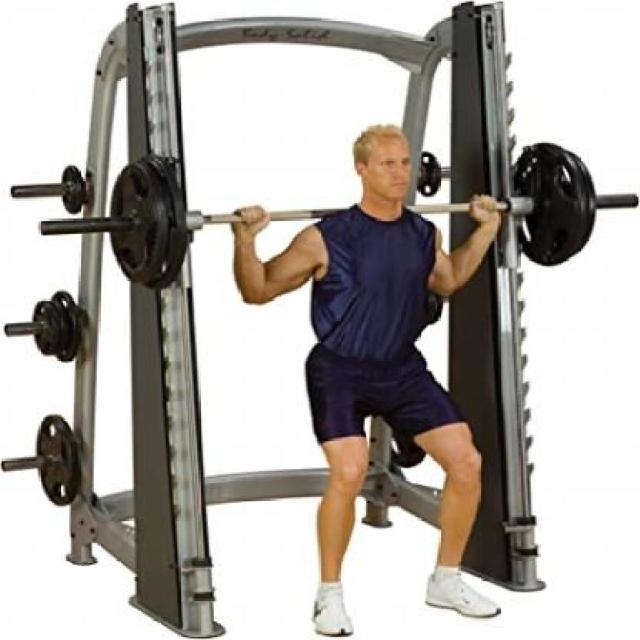smith machine: (6, 3, 637, 640)
